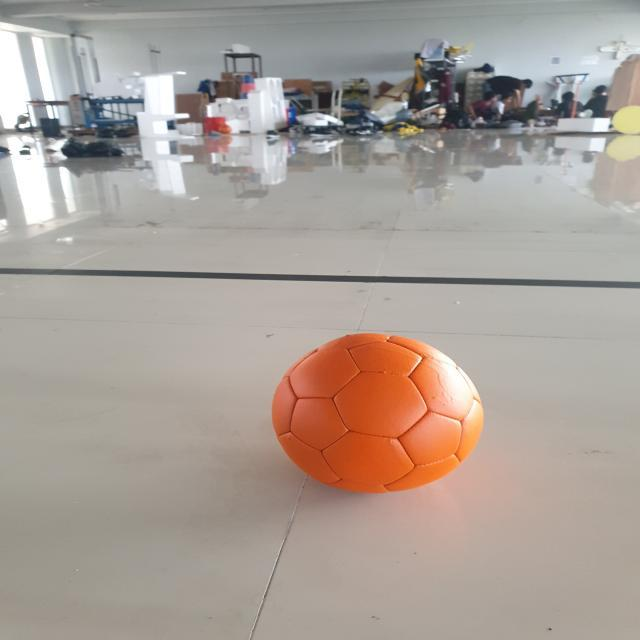bola: (262, 319, 496, 499)
